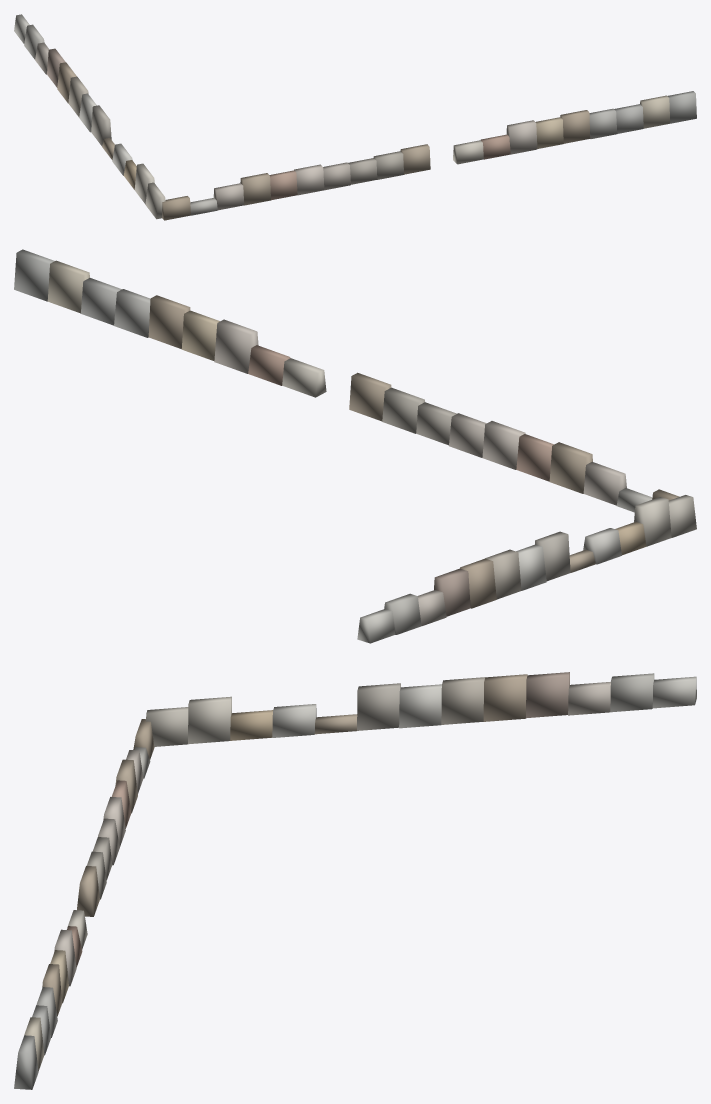
File: farm_4_34_collision.glb
The picture shows the model from 3 angles, top to bottom: view 1: azimuth 30°, elevation 25°; view 2: azimuth 150°, elevation 25°; view 3: azimuth 270°, elevation 25°; orthographic projection. The views are drawn at different scales.
Visible parts, largest first — view 1: geometry_0; view 2: geometry_0; view 3: geometry_0.
Boxes of the visible parts, x1=… form: geometry_0: x1=14, y1=14, x2=696, y2=220; geometry_0: x1=14, y1=249, x2=696, y2=643; geometry_0: x1=14, y1=672, x2=696, y2=1089.
Bounding box in the file's own units: 31.56 × 3.77 × 24.74.
